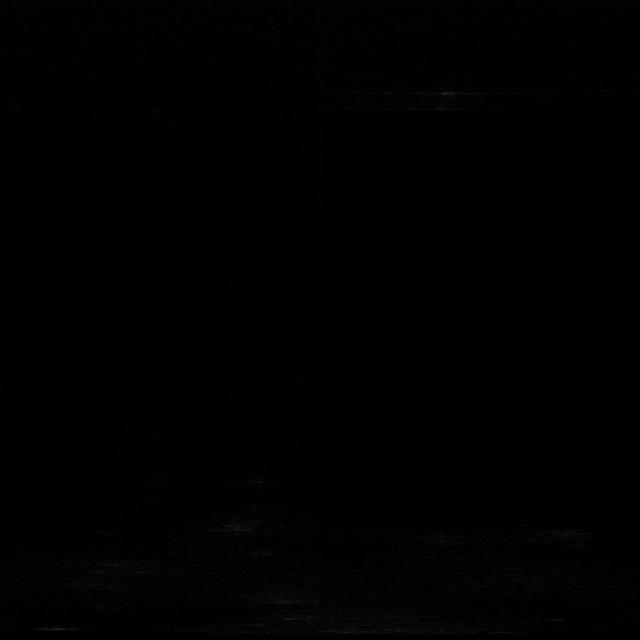rov: (429, 84, 463, 112)
